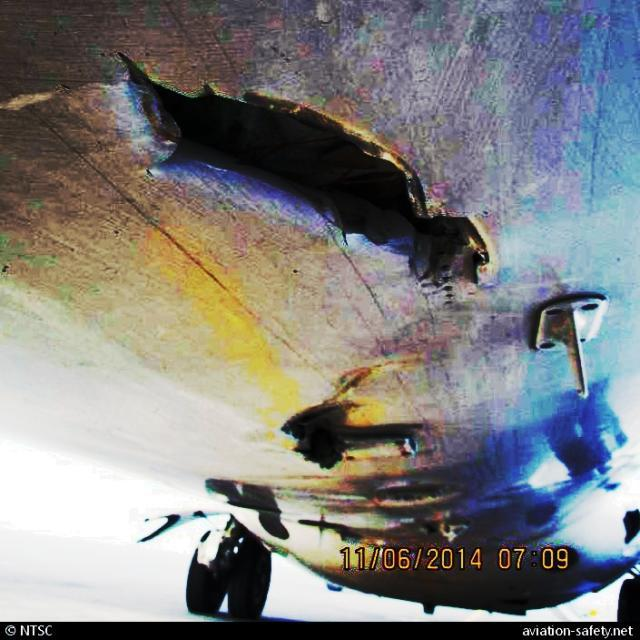crack: (116, 52, 495, 304)
